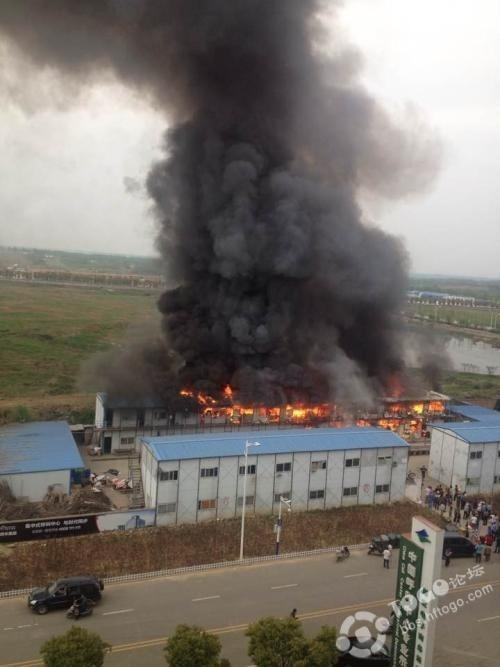fire: (186, 383, 331, 420), (363, 392, 445, 432)
